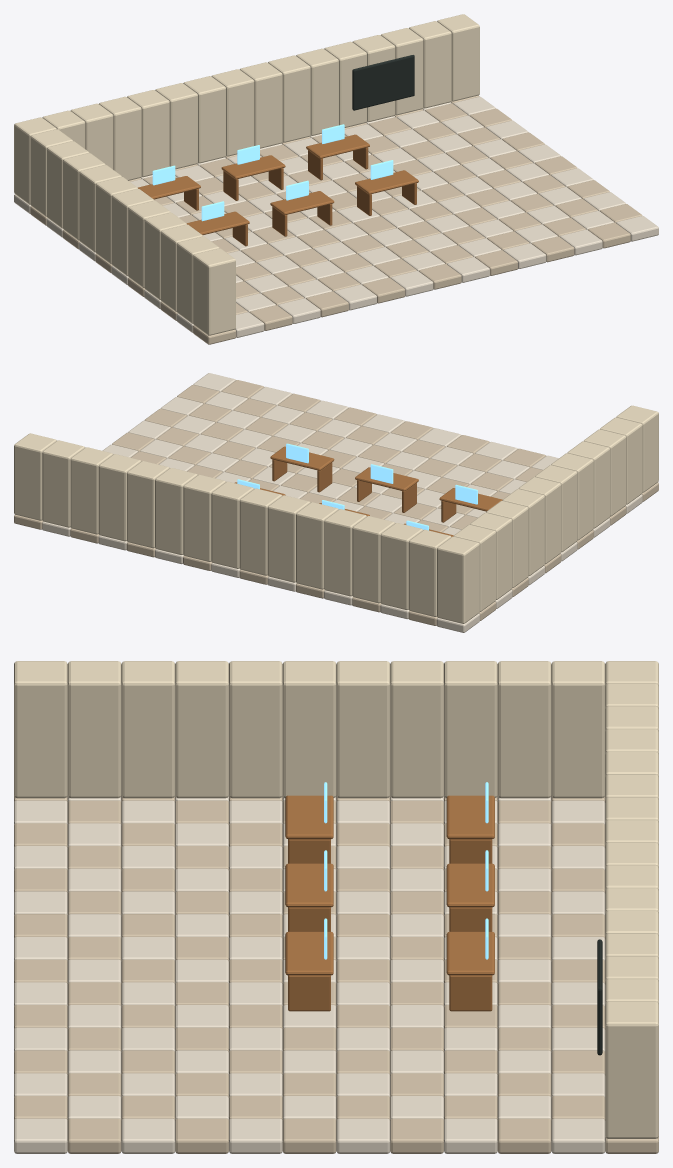
3 renders of one model, top to bottom at view 1: azimuth 30°, elevation 25°; view 2: azimuth 150°, elevation 25°; view 3: azimuth 270°, elevation 25°, orthographic. The views are drawn at different scales.
Visible parts, largest first — view 1: box_1_2.4_1_plaster_cream.026, box_2.2_1.4_0.1_chalk_black, box_1_2.4_1_plaster_cream.009, box_1_2.4_1_plaster_cream.015, box_1_2.4_1_plaster_cream.014, box_1_2.4_1_plaster_cream.005, box_1_2.4_1_plaster_cream.008, box_1_2.4_1_plaster_cream.006, box_1_2.4_1_plaster_cream.007, box_1_2.4_1_plaster_cream.010, box_1_2.4_1_plaster_cream.004, box_1_2.4_1_plaster_cream.003 (+37 smaller); view 2: box_1_2.4_1_plaster_cream, box_1_2.4_1_plaster_cream.005, box_1_2.4_1_plaster_cream.014, box_1_2.4_1_plaster_cream.015, box_1_2.4_1_plaster_cream.003, box_1_2.4_1_plaster_cream.006, box_1_2.4_1_plaster_cream.009, box_1_2.4_1_plaster_cream.012, box_1_2.4_1_plaster_cream.001, box_1_2.4_1_plaster_cream.004, box_1_2.4_1_plaster_cream.007, box_1_2.4_1_plaster_cream.008 (+71 smaller); view 3: box_1_2.4_1_plaster_cream.016, box_1_2.4_1_plaster_cream.017, box_1_2.4_1_plaster_cream.020, box_1_2.4_1_plaster_cream.024, box_1_2.4_1_plaster_cream.025, box_1_2.4_1_plaster_cream.019, box_1_2.4_1_plaster_cream.022, box_1_2.4_1_plaster_cream.023, box_1_2.4_1_plaster_cream.026, box_1_2.4_1_plaster_cream.015, box_1_2.4_1_plaster_cream.021, box_1_2.4_1_plaster_cream.018 (+175 smaller).
Boxes of the visible parts, x1,y1,x2,y2 form: box_1_2.4_1_plaster_cream.026: [193, 248, 235, 335]; box_2.2_1.4_0.1_chalk_black: [352, 55, 414, 110]; box_1_2.4_1_plaster_cream.009: [268, 55, 310, 142]; box_1_2.4_1_plaster_cream.015: [437, 14, 479, 101]; box_1_2.4_1_plaster_cream.014: [409, 21, 451, 108]; box_1_2.4_1_plaster_cream.005: [155, 83, 197, 169]; box_1_2.4_1_plaster_cream.008: [240, 62, 282, 148]; box_1_2.4_1_plaster_cream.006: [183, 76, 225, 163]; box_1_2.4_1_plaster_cream.007: [211, 69, 254, 156]; box_1_2.4_1_plaster_cream.010: [296, 48, 338, 135]; box_1_2.4_1_plaster_cream.004: [127, 90, 169, 177]; box_1_2.4_1_plaster_cream.003: [99, 96, 141, 180]; box_1_2.4_1_plaster_cream: [437, 536, 479, 623]; box_1_2.4_1_plaster_cream.005: [296, 502, 338, 589]; box_1_2.4_1_plaster_cream.014: [42, 440, 84, 527]; box_1_2.4_1_plaster_cream.015: [14, 433, 56, 520]; box_1_2.4_1_plaster_cream.003: [352, 516, 394, 603]; box_1_2.4_1_plaster_cream.006: [267, 495, 310, 582]; box_1_2.4_1_plaster_cream.009: [183, 474, 225, 561]; box_1_2.4_1_plaster_cream.012: [98, 454, 141, 541]; box_1_2.4_1_plaster_cream.001: [408, 529, 451, 616]; box_1_2.4_1_plaster_cream.004: [324, 509, 366, 596]; box_1_2.4_1_plaster_cream.007: [239, 488, 282, 575]; box_1_2.4_1_plaster_cream.008: [211, 481, 253, 568]; box_1_2.4_1_plaster_cream.016: [551, 661, 605, 798]; box_1_2.4_1_plaster_cream.017: [497, 661, 551, 798]; box_1_2.4_1_plaster_cream.020: [336, 661, 390, 798]; box_1_2.4_1_plaster_cream.024: [121, 661, 175, 798]; box_1_2.4_1_plaster_cream.025: [67, 661, 121, 798]; box_1_2.4_1_plaster_cream.019: [390, 661, 443, 798]; box_1_2.4_1_plaster_cream.022: [229, 661, 282, 798]; box_1_2.4_1_plaster_cream.023: [175, 661, 228, 798]; box_1_2.4_1_plaster_cream.026: [14, 661, 67, 798]; box_1_2.4_1_plaster_cream.015: [605, 1002, 658, 1138]; box_1_2.4_1_plaster_cream.021: [282, 661, 336, 797]; box_1_2.4_1_plaster_cream.018: [444, 661, 497, 797].
Size of the model in its own units: 16 by 2.7 by 12.
